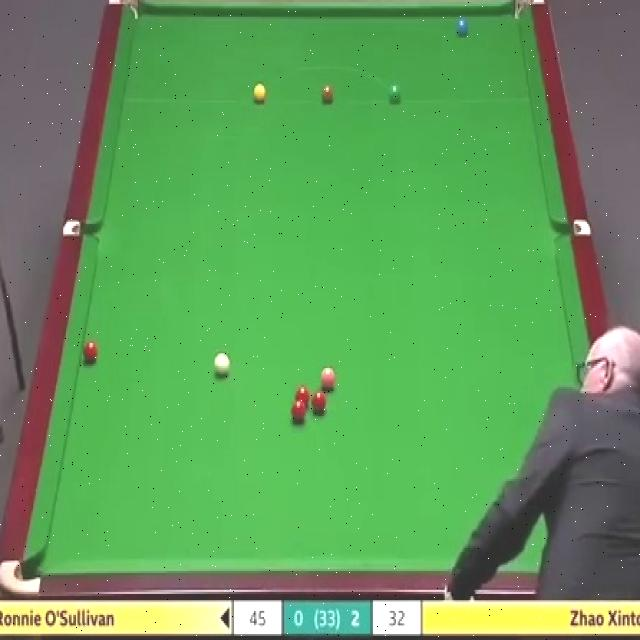blue-ball: (455, 18, 470, 38)
brown-ball: (320, 86, 334, 103)
green-ball: (388, 82, 402, 106)
pink-ball: (319, 366, 337, 391)
red-ball: (312, 390, 327, 418), (290, 399, 307, 423), (295, 385, 310, 409), (82, 341, 99, 362)
white-ball: (214, 354, 233, 384)
yellow-ball: (252, 83, 267, 104)
